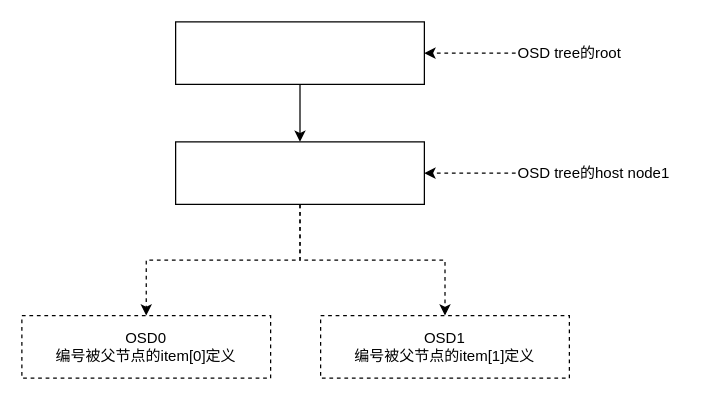
This 708x400 diagram has some shape labels left out. Here are the shapes that lost their labels. From the top down, the box of each, then its label:
(174, 21, 424, 84): crush_bucket[0] id=-3, items=-3
(174, 141, 424, 204): crush_bucket[1] id=-3, size=2, items[0]=0, items[1]=1
